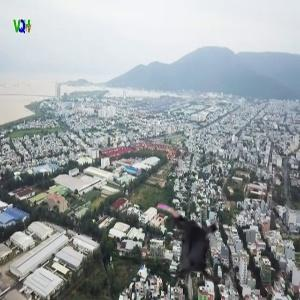drone: (141, 197, 242, 298)
